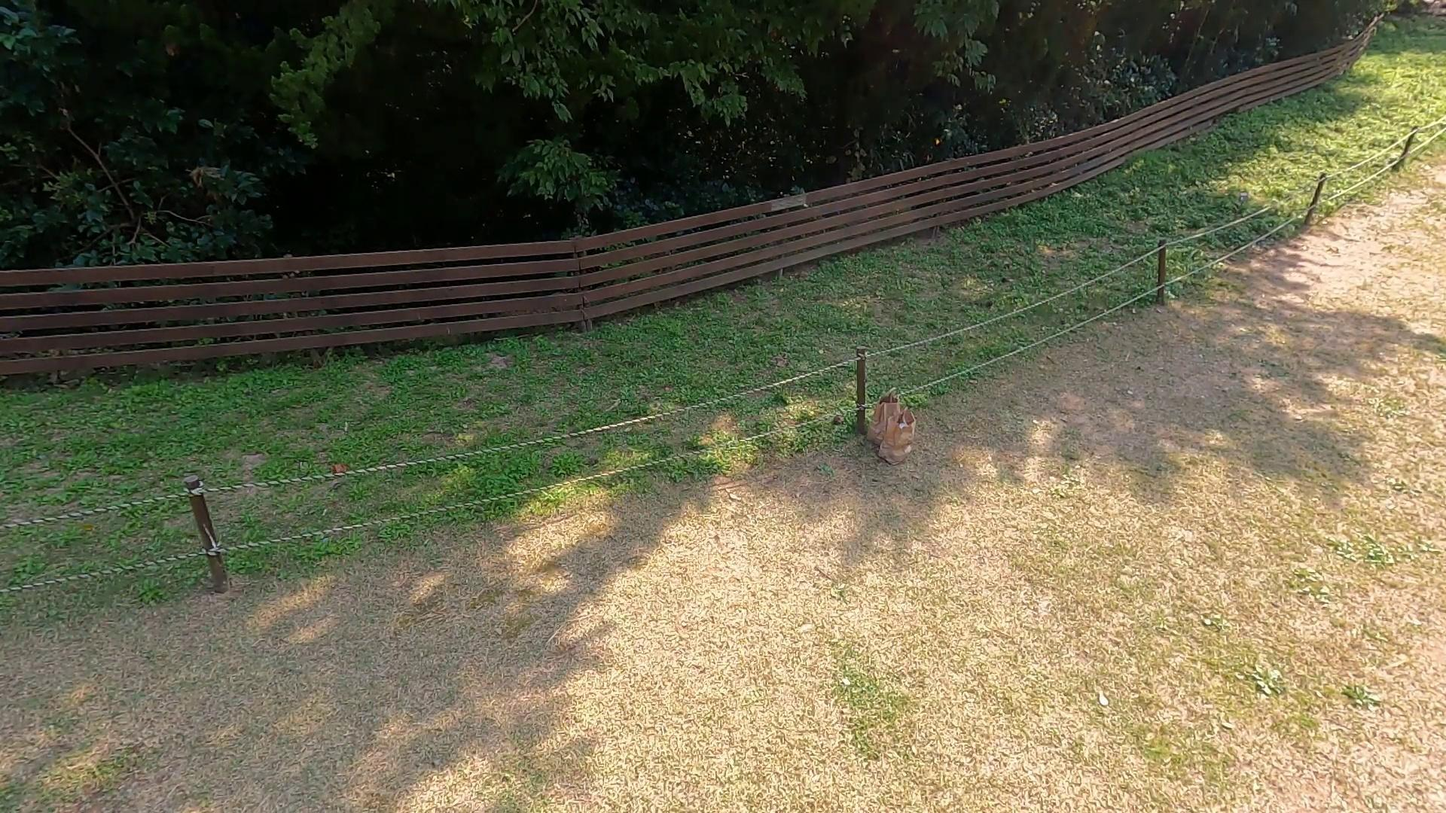trash: (878, 406, 916, 466), (869, 387, 901, 443)
